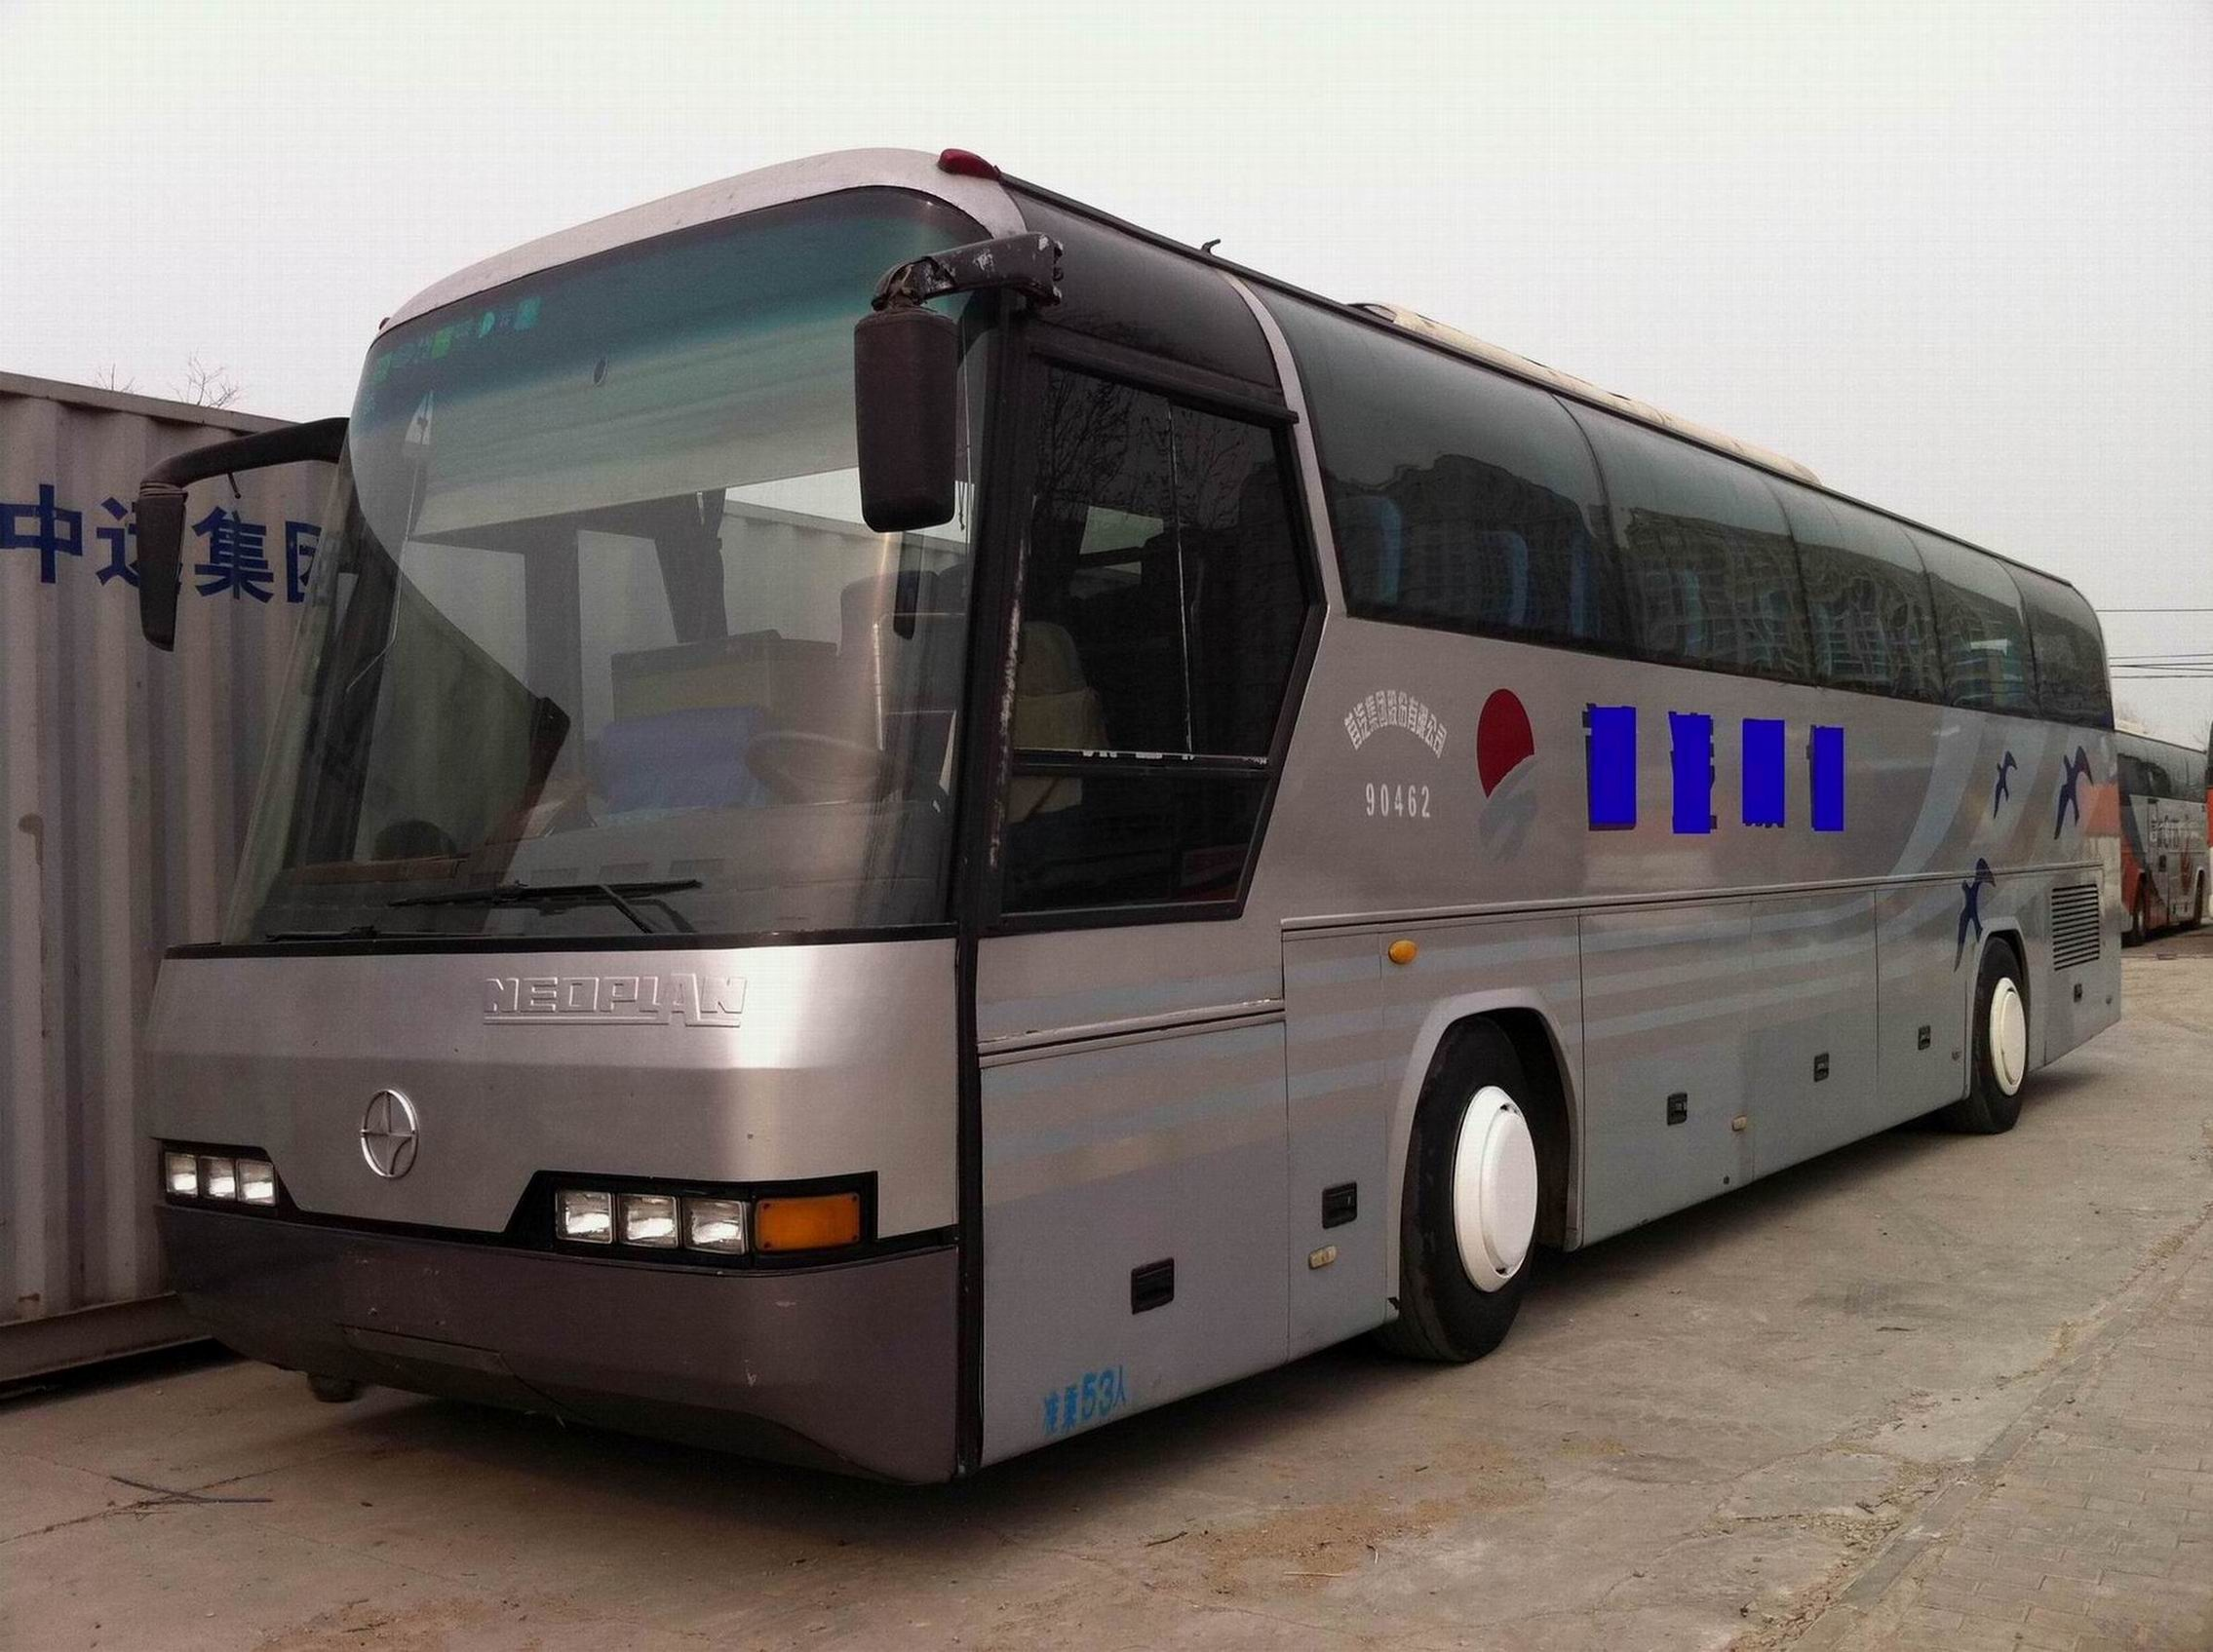bus: (212, 151, 2144, 1472)
